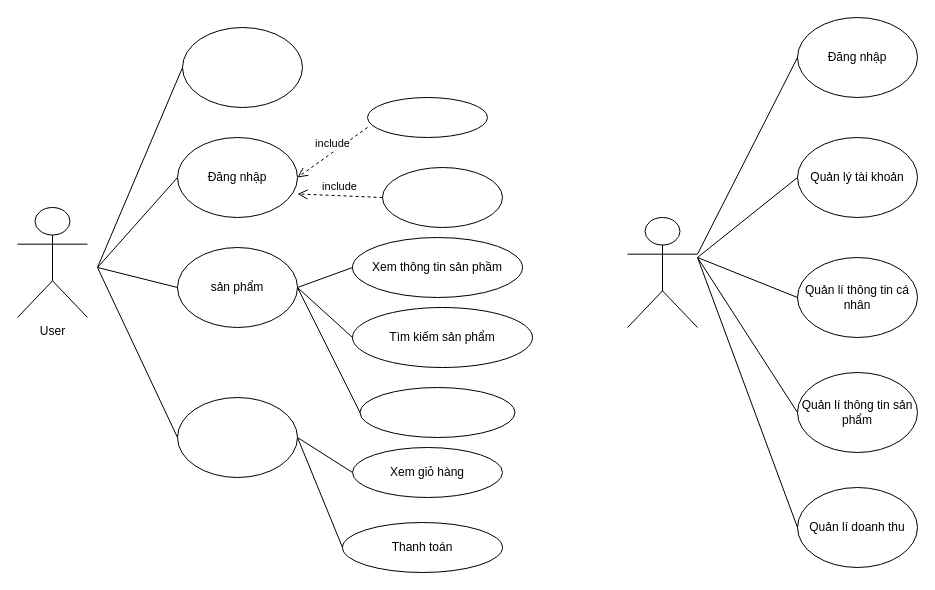
Some shapes in this 935 by 590 pixel diagram are drawn without their labels. Here are the shapes that lost their labels. From the top down, the box of each, then its label:
(182, 26, 302, 108): Đăng kí
(366, 96, 488, 138): thay đổi mật khẩu
(382, 166, 502, 228): thay đổi thông tin
(626, 216, 698, 328): Admin
(359, 386, 515, 438): Đánh giá sản phẩm
(176, 396, 298, 478): Giỏ hàng
